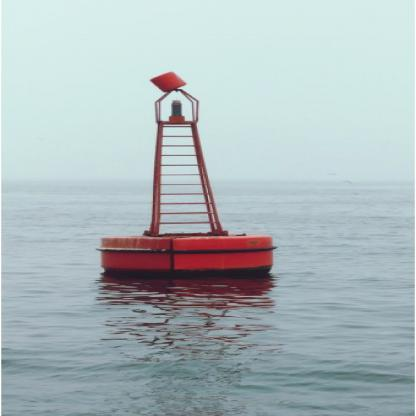buoy: (90, 67, 286, 280)
